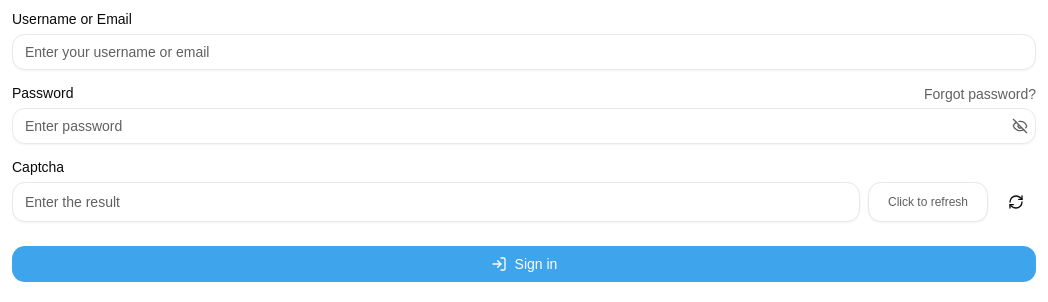
Test: shows a new captcha when a successful login reply cannot be followed
The image size is (1048, 302).
Later steps or results of the test are not shown.
Expected: the button "Sign in" is shown, [12, 246, 1036, 282]
In the field labelled "Username or Email": x=524, y=52 [12, 34, 1036, 70], type "alice"
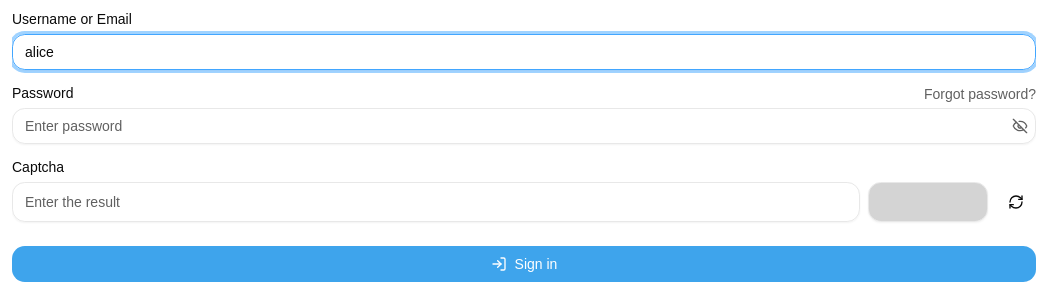
In the password field labelled "Password": x=524, y=126 [12, 108, 1036, 144], type "wrong-password"
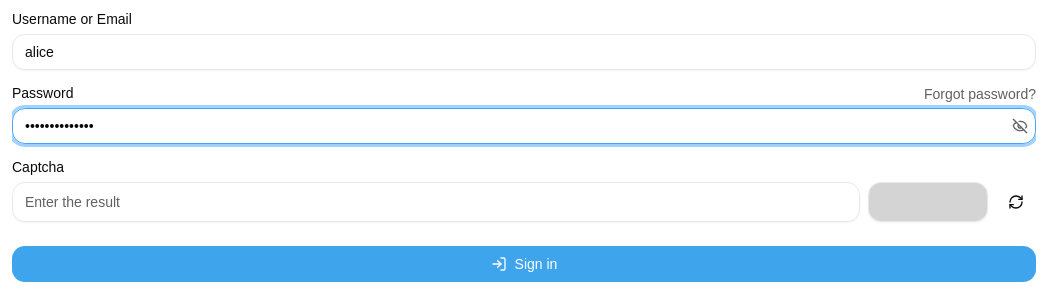
In the field labelled "Captcha": x=436, y=202 [12, 182, 860, 222], type "12"
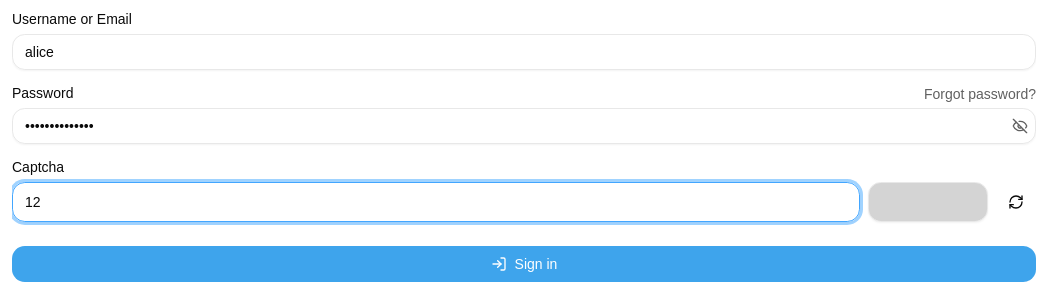
Click the button "Sign in": x=524, y=264 [12, 246, 1036, 282]
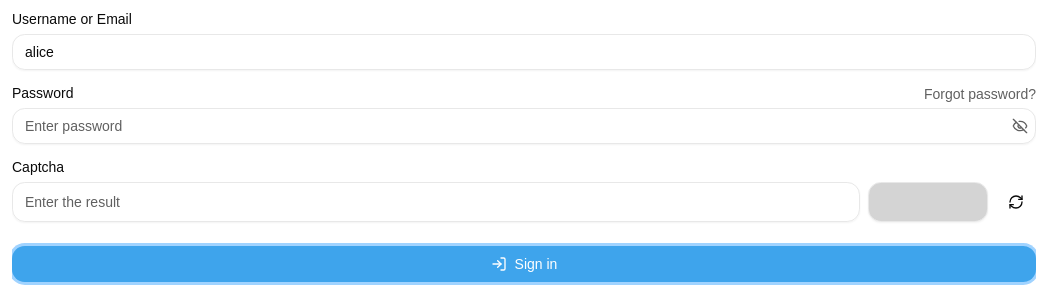
Now the field labelled "Captcha" is empty, box [12, 182, 860, 222]
